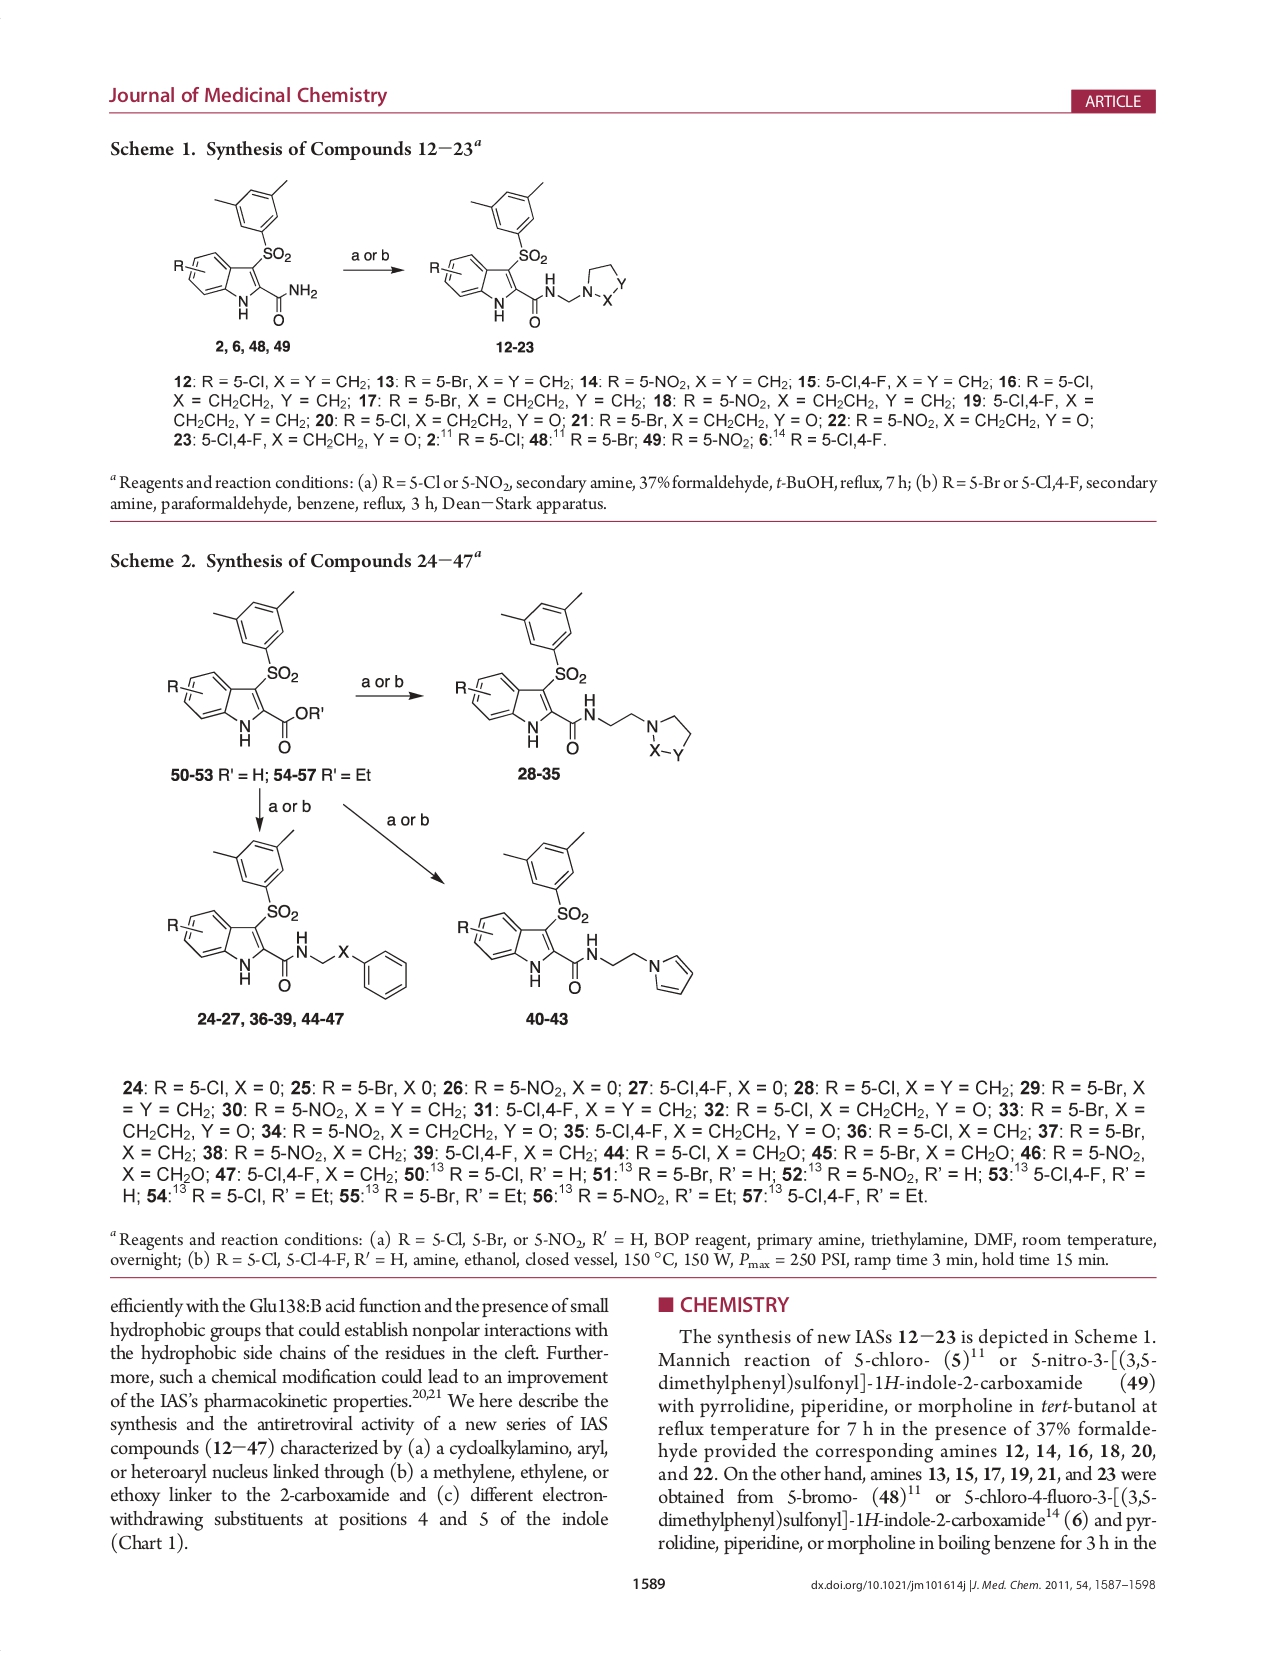exist_molecular: (165, 827, 410, 1001), (452, 590, 693, 765), (452, 830, 694, 1001), (426, 180, 626, 328), (162, 588, 327, 754), (168, 178, 319, 330)
